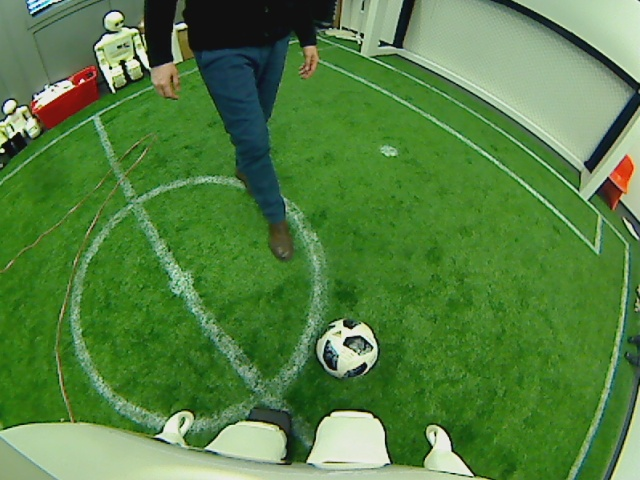ball: (314, 316, 378, 381)
